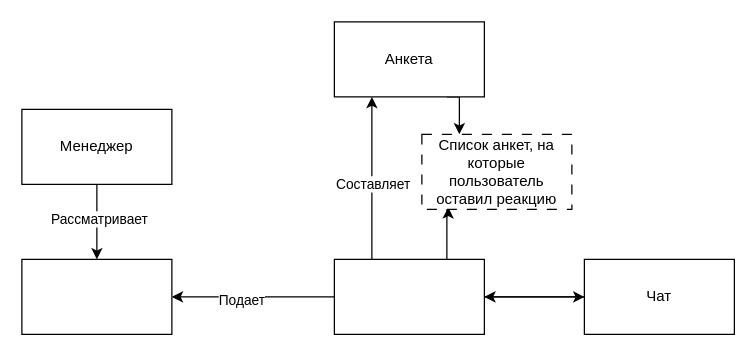
This 756x356 diagram has some shape labels left out. The centre of each missing label's shape, as x and y in pixels:
Заявка на авторство: point (96, 296)
Пользователь: point (408, 296)
